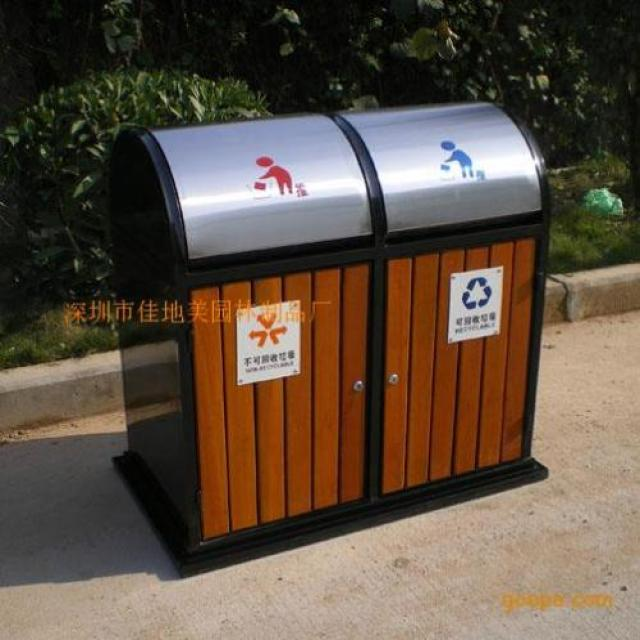garbage_bin: (109, 96, 546, 580)
